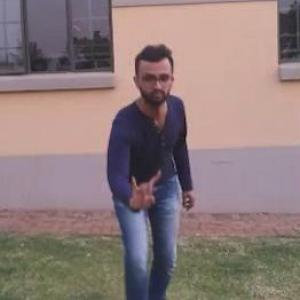takeoff-hand: (121, 158, 165, 212)
